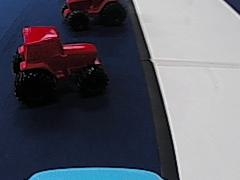Tracktor: (10, 21, 110, 101), (58, 0, 129, 29)
